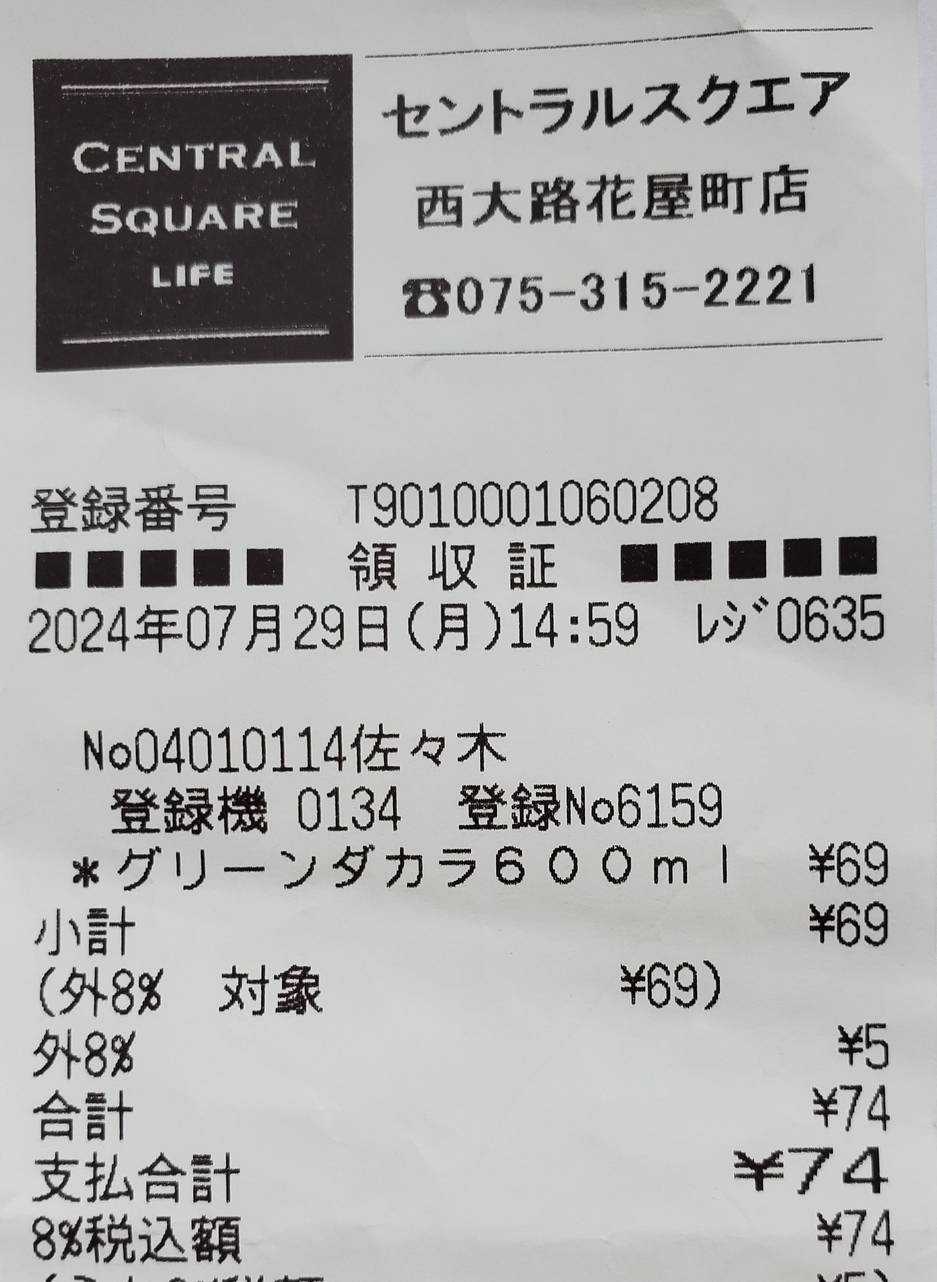Date: (8, 588, 406, 669)
Shopname: (377, 69, 864, 143)
Telnum: (454, 258, 832, 325)
Totalpay: (12, 1142, 914, 1210)
